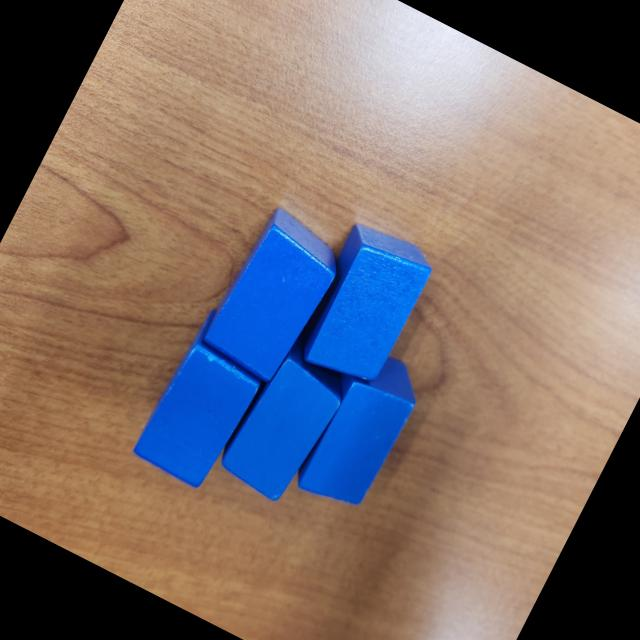blue: (130, 304, 282, 496), (196, 202, 352, 388), (286, 214, 441, 398), (286, 338, 432, 520), (213, 330, 359, 510)
